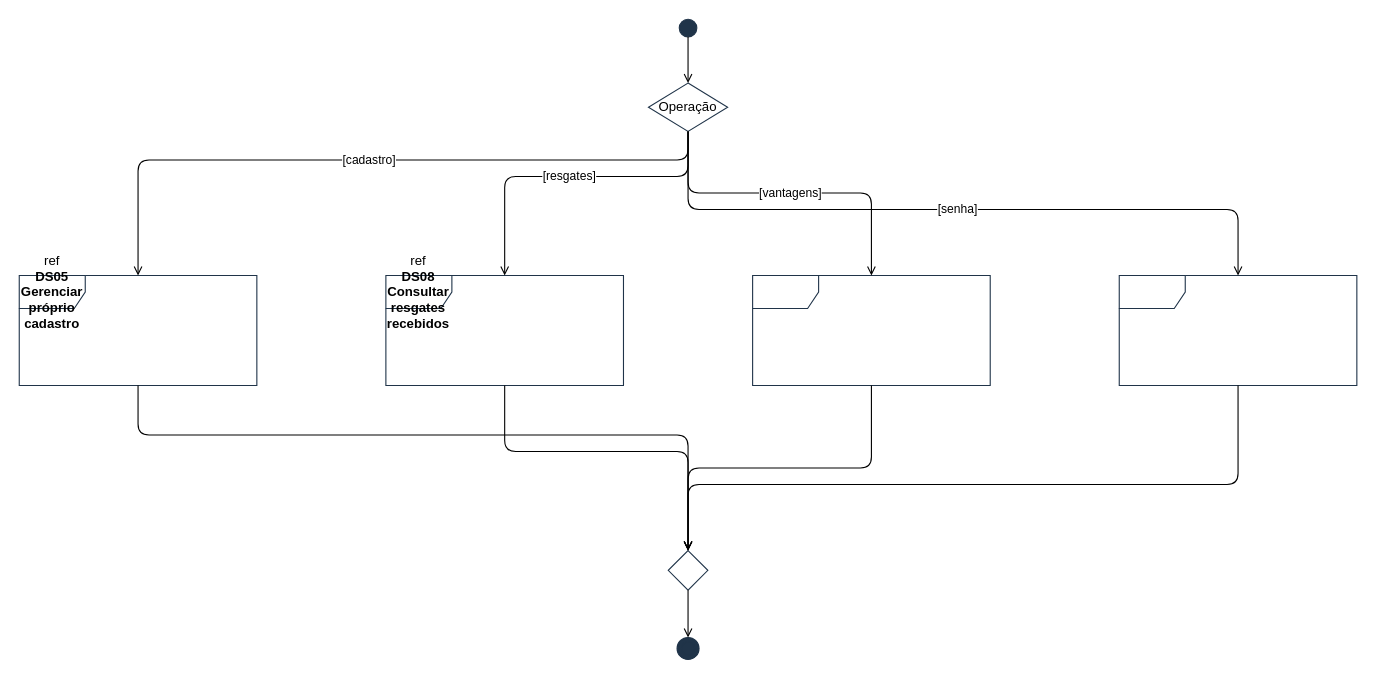
This 1376x679 diagram has some shape labels left out. The shapes that lost their labels are listed below. From the top down, each one's centre as x and y in pixels, then its label:
point 871,330: ref DS09 Gerenciar vantagens
point 1237,330: ref DS14 Alterar minha senha
